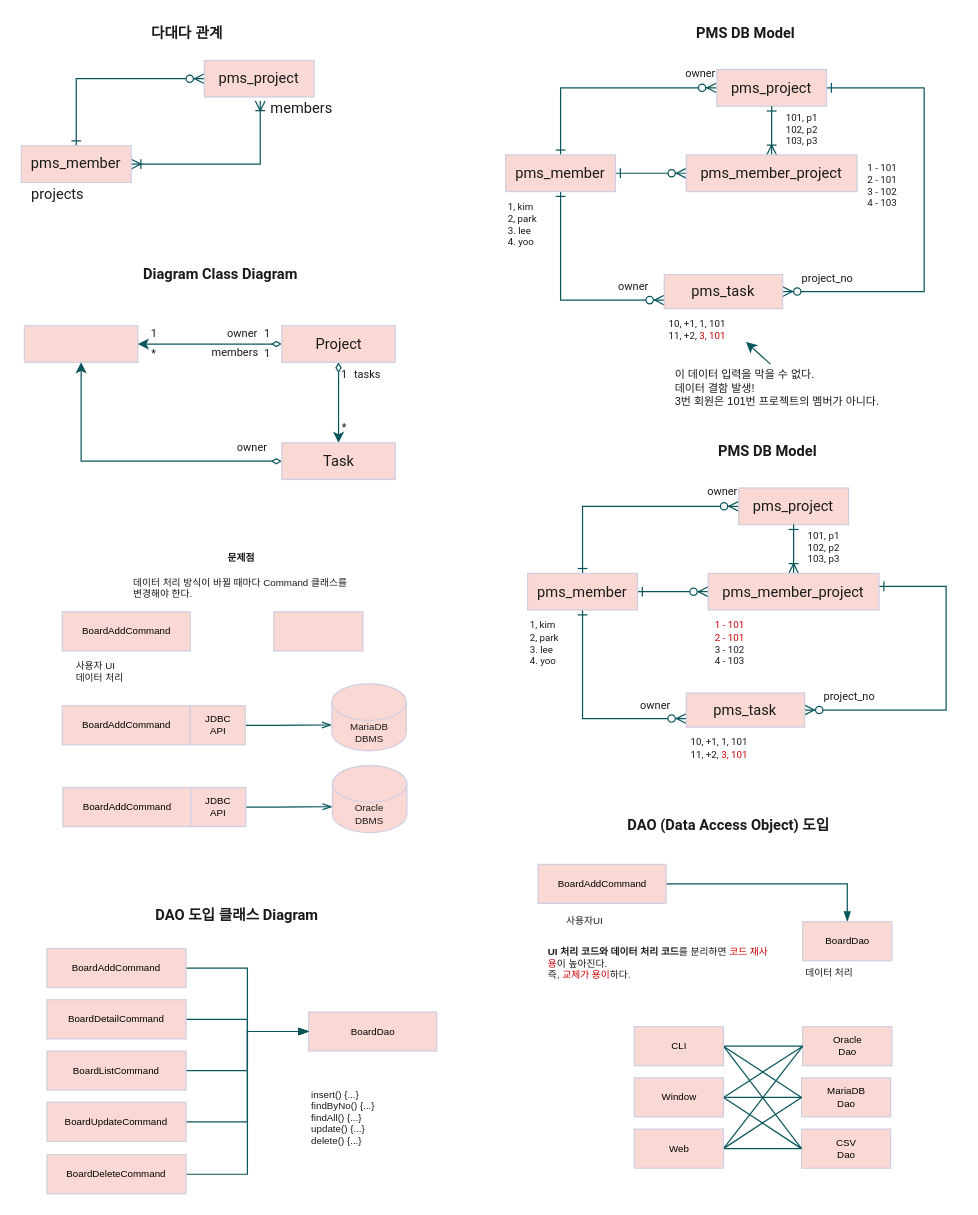
This 978x1215 diagram has some shape labels left out. The shapes that lost their labels are listed below. From the top down, each one's centre as x and y in pixels, then its label:
point 80,343: Member
point 318,631: ArrayList
